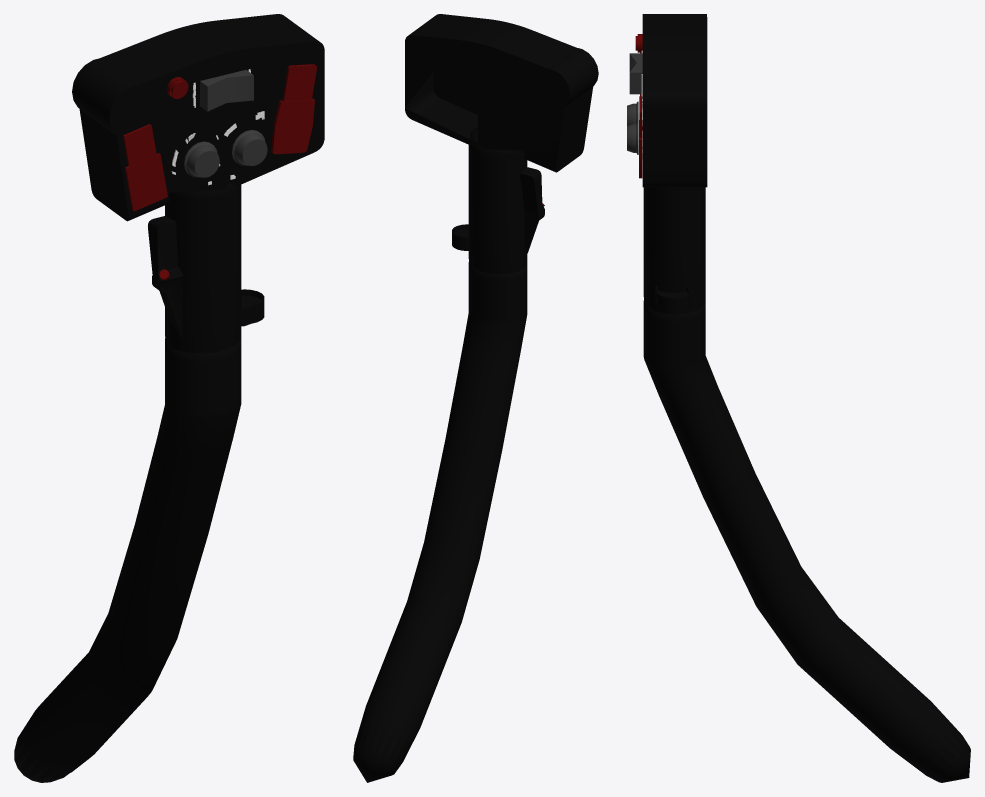
File: 컨트롤러2(05-29).FBX
3 views of the same model, side by side, from view 1: azimuth 30°, elevation 25°; view 2: azimuth 150°, elevation 25°; view 3: azimuth 270°, elevation 25° (orthographic). The views are drawn at different scales.
Parts seen in each view (by area): view 1: Cylinder005, Cylinder004; view 2: Cylinder005, Cylinder004; view 3: Cylinder005, Cylinder004.
Part boxes in pixels (<box>): Cylinder005: <box>14,182,241,782</box>; Cylinder004: <box>72,14,324,338</box>; Cylinder005: <box>353,127,527,782</box>; Cylinder004: <box>405,14,598,253</box>; Cylinder005: <box>643,187,970,782</box>; Cylinder004: <box>627,14,707,313</box>.
Size of the model in its own units: 199 by 753 by 319.
